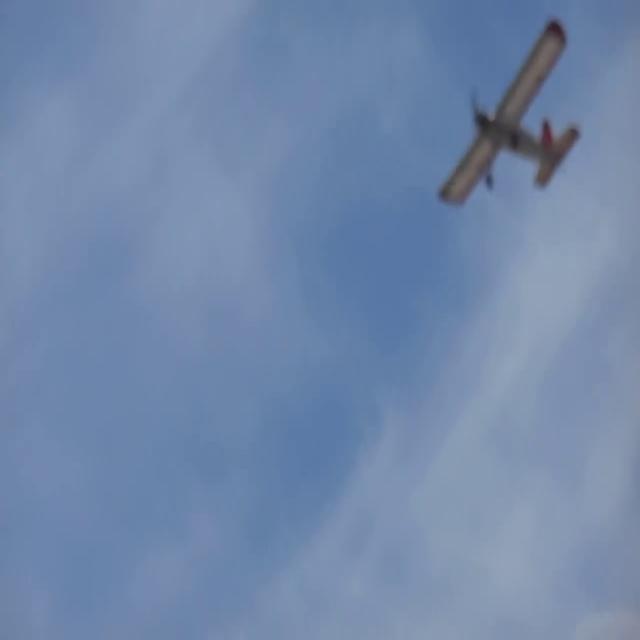iha: (432, 0, 582, 145)
